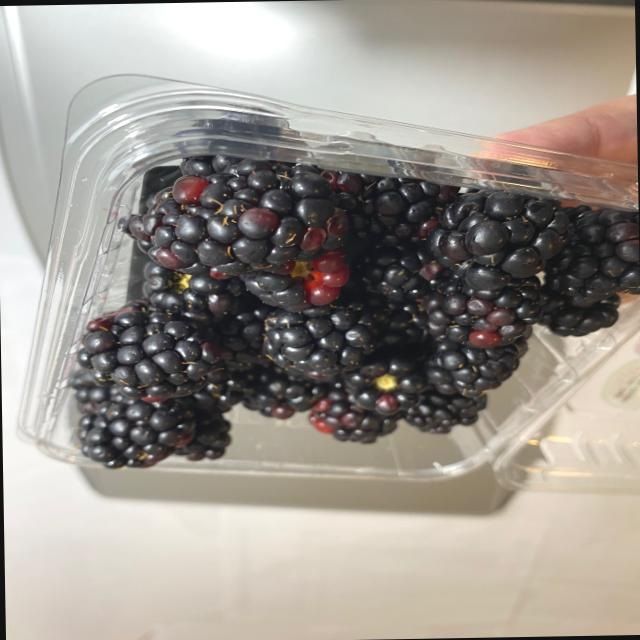blackberries: (45, 178, 640, 471)
